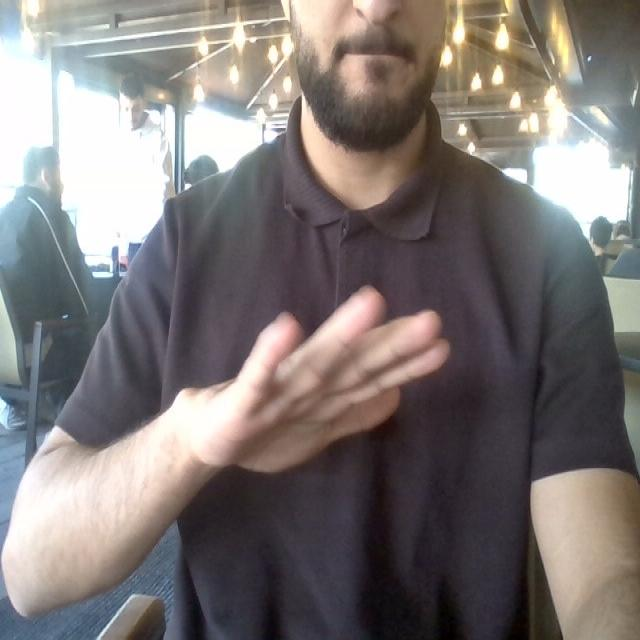Hand: (172, 287, 448, 471)
